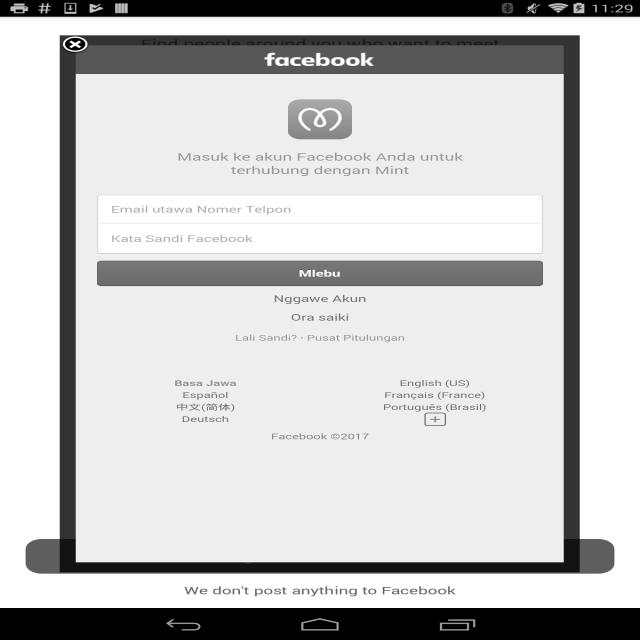Button: (104, 259, 551, 286)
EditText: (91, 228, 536, 254), (99, 198, 525, 222)
ImageView: (277, 96, 361, 140)
TextView: (240, 289, 412, 349), (170, 150, 484, 178), (376, 376, 490, 440), (156, 377, 242, 430), (259, 424, 370, 458), (249, 50, 390, 72)
